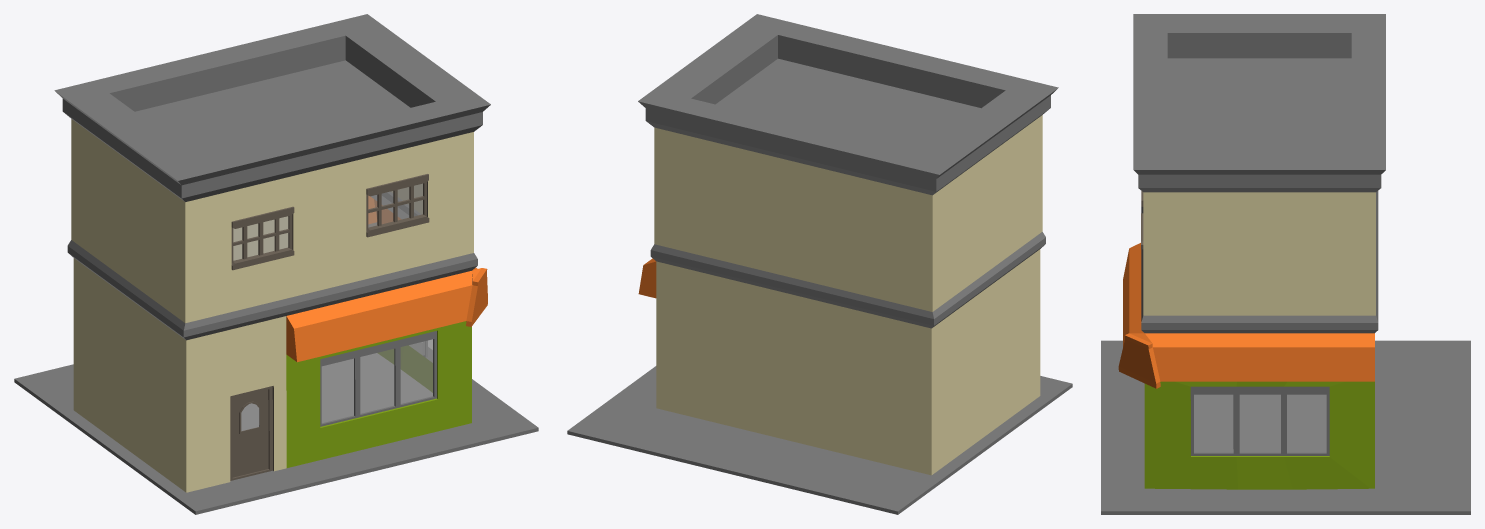
File: commerical3.fbx
The picture shows the model from 3 angles, left to right: view 1: azimuth 30°, elevation 25°; view 2: azimuth 150°, elevation 25°; view 3: azimuth 270°, elevation 25°; orthographic projection. The views are drawn at different scales.
Visible parts, largest first — view 1: Cube; view 2: Cube; view 3: Cube.
Boxes of the visible parts, x1,y1,x2,y2 form: Cube: (14,14,538,514); Cube: (567,14,1072,514); Cube: (1101,14,1470,514).
Bounding box in the file's own units: 1490 × 1333 × 1357.
